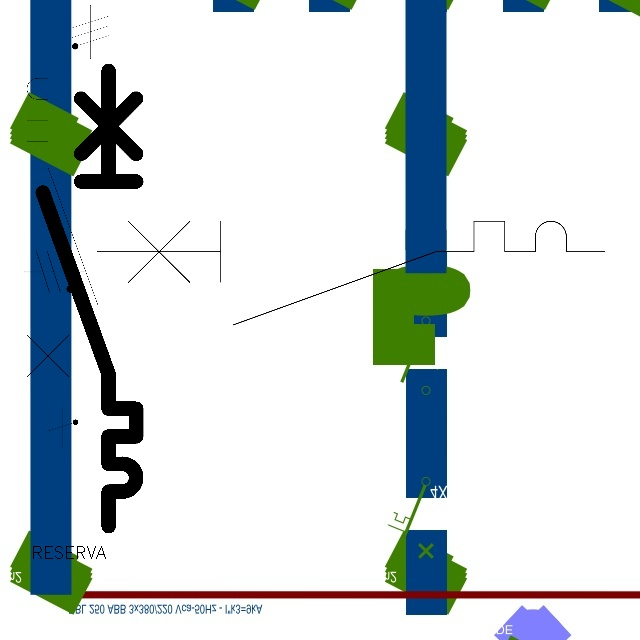interruptor_termomagnetico: (84, 208, 617, 338), (31, 59, 148, 538), (18, 43, 107, 406)
